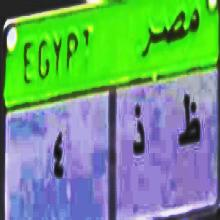4: (47, 114, 68, 197)
Thaa: (178, 85, 203, 158)
zaal: (127, 98, 150, 157)
